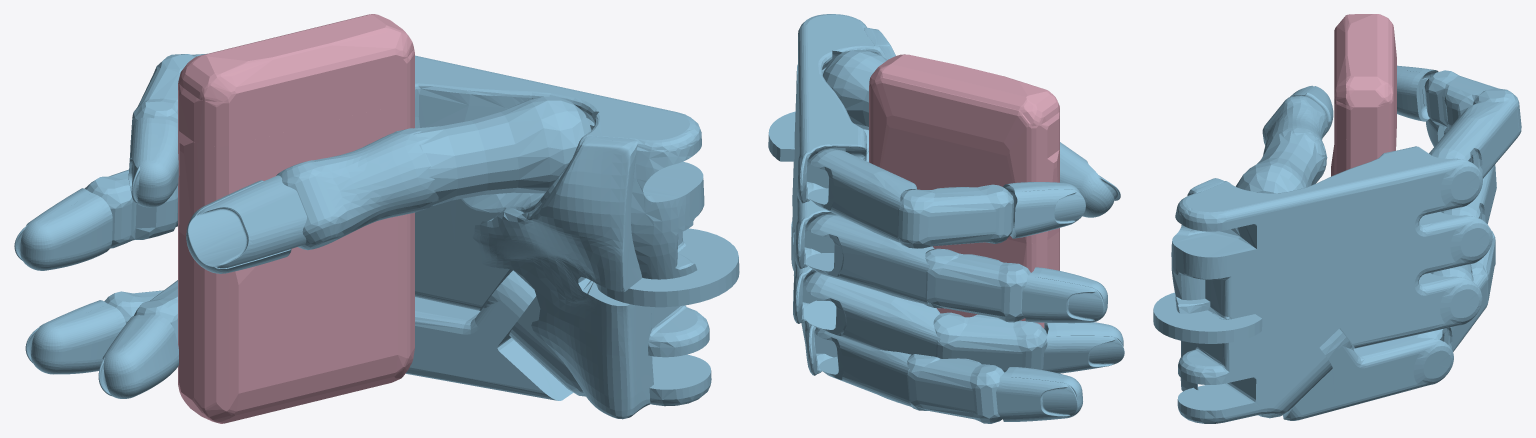
The picture shows the model from 3 angles, left to right: view 1: azimuth 30°, elevation 25°; view 2: azimuth 150°, elevation 25°; view 3: azimuth 270°, elevation 25°; orthographic projection. The views are drawn at different scales.
Visible parts, largest first — view 1: hand_isaac_q, world; view 2: hand_isaac_q, world; view 3: hand_isaac_q, world.
Part boxes in pixels (box(x1,y1,x2,y2)): hand_isaac_q: box(14, 53, 739, 419); world: box(178, 14, 414, 423); hand_isaac_q: box(768, 14, 1124, 423); world: box(869, 54, 1059, 328); hand_isaac_q: box(1153, 65, 1521, 423); world: box(1331, 14, 1396, 176).
Bounding box in the file's own units: 0.1714 × 0.109 × 0.1266.
